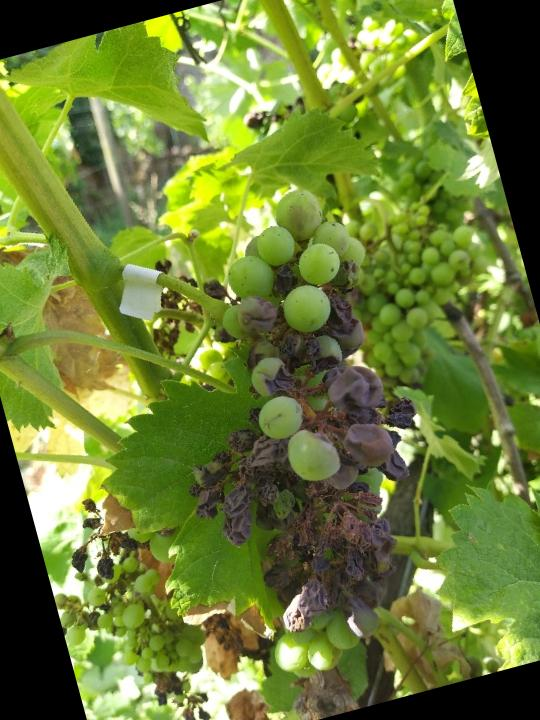grape: (120, 172, 479, 696)
